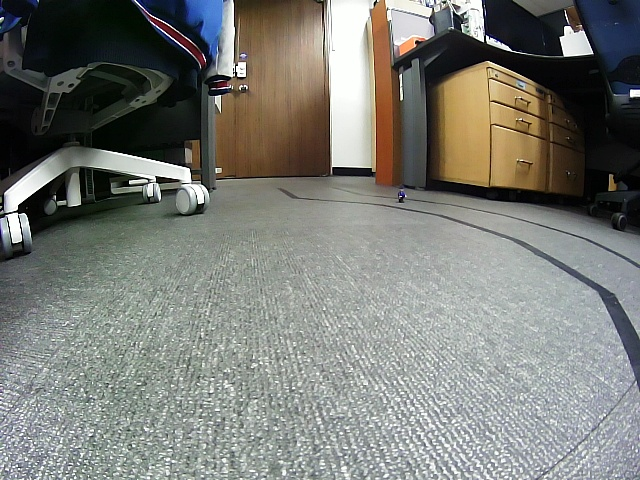person: (398, 189, 407, 203)
